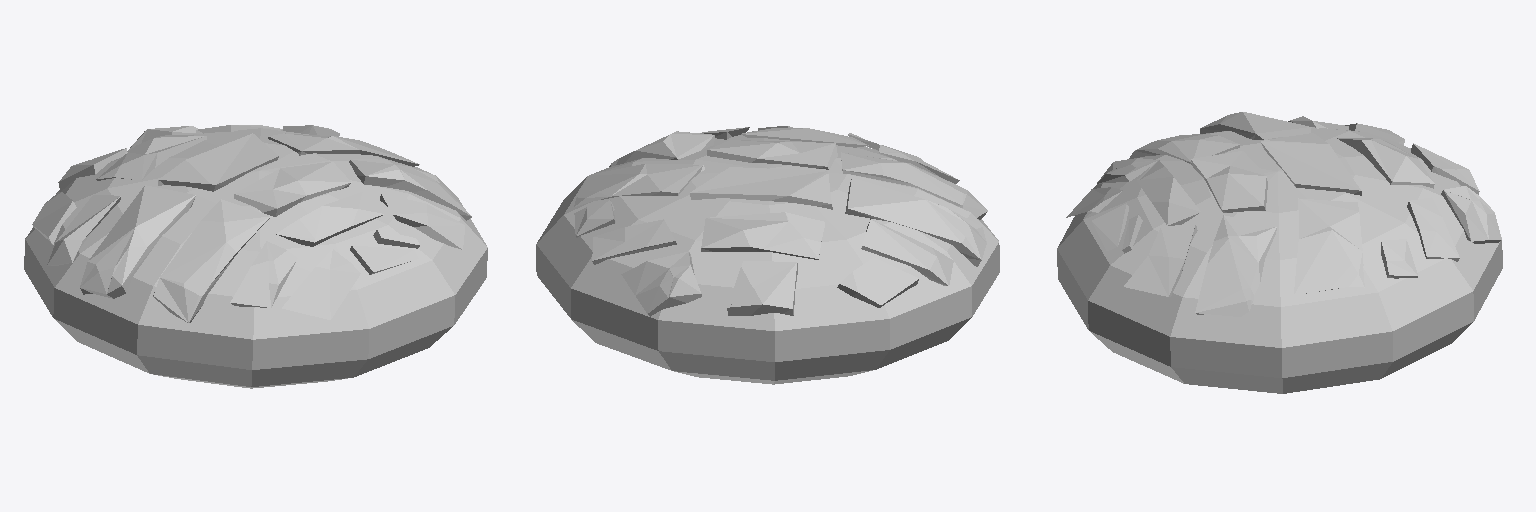
The model's file is Burger_bread.obj.
The picture shows the model from 3 angles: view 1: azimuth 30°, elevation 25°; view 2: azimuth 150°, elevation 25°; view 3: azimuth 270°, elevation 25°; orthographic projection.
Visible parts, largest first — view 1: group[number redacted], group[number redacted], group[number redacted], group[number redacted], group[number redacted], group[number redacted], group[number redacted], group[number redacted], group[number redacted], group[number redacted], group[number redacted], group[number redacted] (+6 smaller); view 2: group[number redacted], group[number redacted], group[number redacted], group[number redacted], group[number redacted], group[number redacted], group[number redacted], group[number redacted], group[number redacted], group[number redacted], group[number redacted], group[number redacted] (+4 smaller); view 3: group[number redacted], group[number redacted], group[number redacted], group[number redacted], group[number redacted], group[number redacted], group[number redacted], group[number redacted], group[number redacted], group[number redacted], group[number redacted], group[number redacted] (+5 smaller).
Part boxes in pixels (x1,y1,x2,y2): group[number redacted]: (24,128,487,388); group[number redacted]: (153,199,270,322); group[number redacted]: (80,185,195,298); group[number redacted]: (158,133,278,191); group[number redacted]: (234,162,351,216); group[number redacted]: (282,249,360,319); group[number redacted]: (276,192,383,246); group[number redacted]: (349,159,471,220); group[number redacted]: (230,241,297,307); group[number redacted]: (96,135,206,180); group[number redacted]: (380,194,464,249); group[number redacted]: (47,195,120,265); group[number redacted]: (536,135,999,384); group[number redacted]: (845,178,986,266); group[number redacted]: (701,212,824,259); group[number redacted]: (690,167,832,209); group[number redacted]: (574,164,704,206); group[number redacted]: (727,261,797,315); group[number redacted]: (621,251,701,316); group[number redacted]: (841,152,987,219); group[number redacted]: (707,140,837,169); group[number redacted]: (861,219,953,285); group[number redacted]: (837,257,918,307); group[number redacted]: (592,219,676,264); group[number redacted]: (1057,127,1502,393); group[number redacted]: (1294,198,1364,294); group[number redacted]: (1195,215,1276,316); group[number redacted]: (1261,133,1361,195); group[number redacted]: (1191,151,1267,212); group[number redacted]: (1124,224,1197,296); group[number redacted]: (1337,138,1434,188); group[number redacted]: (1137,160,1200,225); group[number redacted]: (1441,186,1501,243); group[number redacted]: (1407,197,1459,261); group[number redacted]: (1129,134,1239,164); group[number redacted]: (1200,112,1311,139).
Bounding box in the file's own units: 0.4721 × 0.2005 × 0.4479.